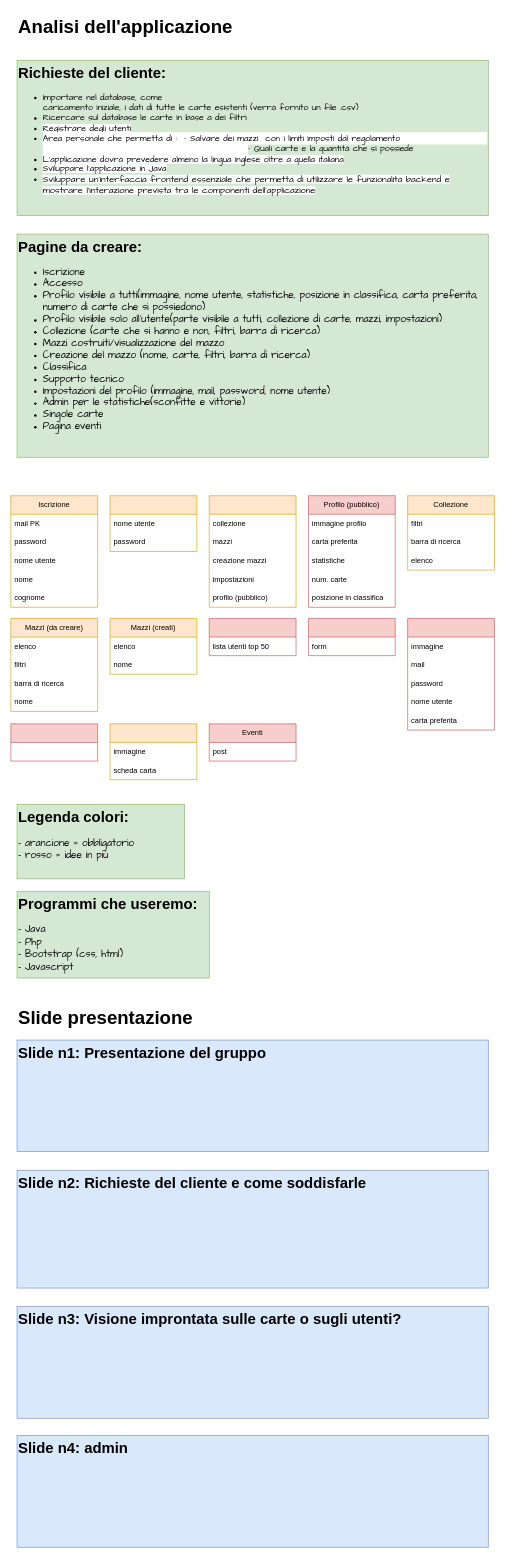
The diagram is 505 pixels wide and 1559 high, and some of its shapes have lost their labels. Here are the shapes that lost their labels. From the top down, the box of each, then its label:
(109, 495, 197, 551): Accesso
(209, 495, 296, 607): Profilo (privato)
(209, 618, 296, 656): Classifica
(308, 618, 395, 656): Supporto tecnico
(407, 618, 494, 730): Impostazioni profilo
(10, 723, 98, 761): Admin
(109, 723, 197, 780): Singole carte
